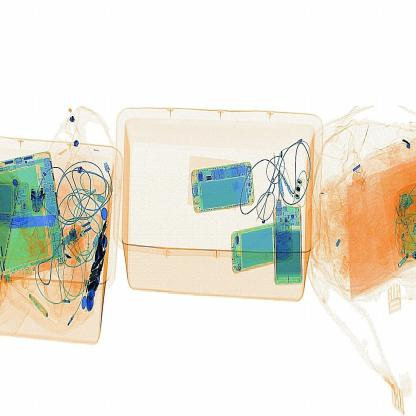pliers: (2, 206, 62, 234)
